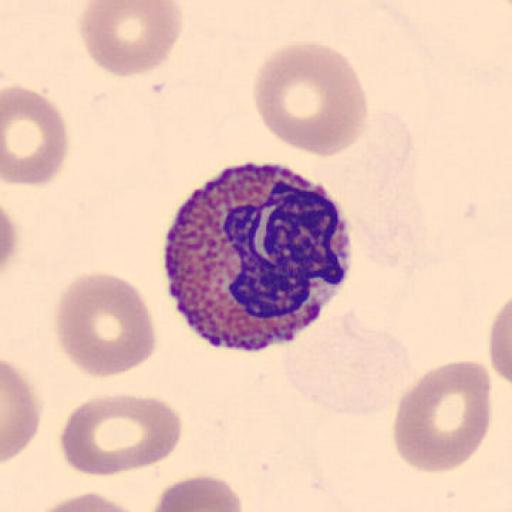RBC: (307, 108, 428, 266), (281, 310, 416, 418), (252, 39, 370, 158), (392, 358, 493, 474), (52, 272, 156, 378), (59, 393, 184, 477), (78, 1, 184, 78), (1, 82, 70, 187), (2, 359, 42, 463), (149, 474, 244, 512), (24, 491, 150, 512), (489, 294, 512, 390), (0, 202, 20, 278)
WBC: (162, 156, 353, 352)
